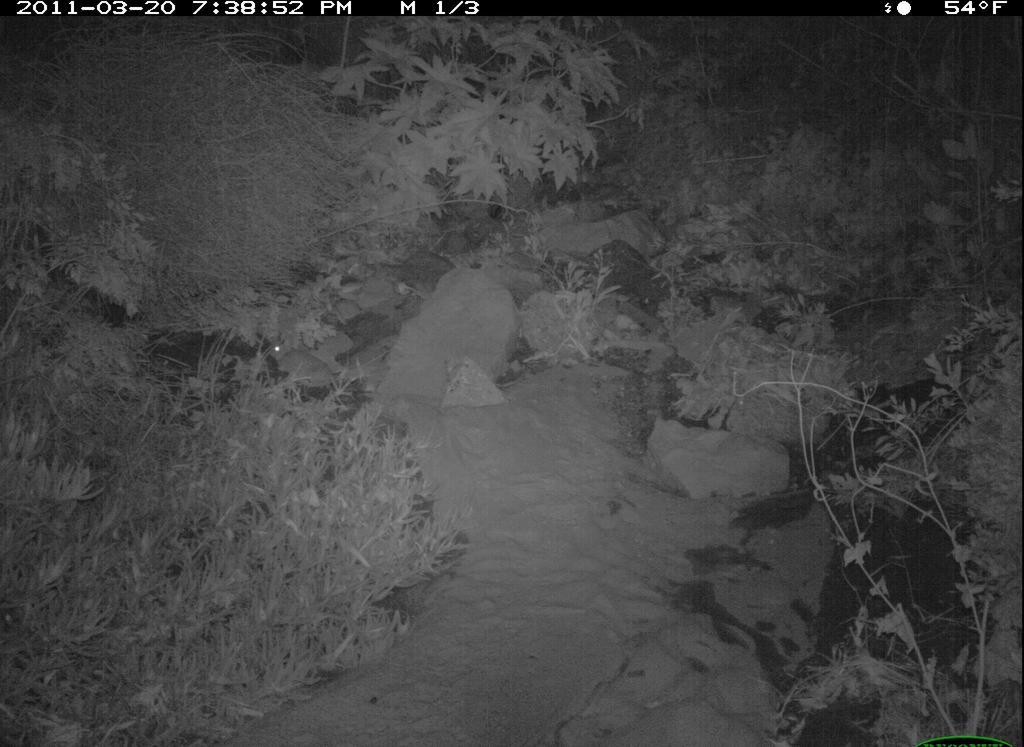rabbit: (264, 327, 341, 392)
